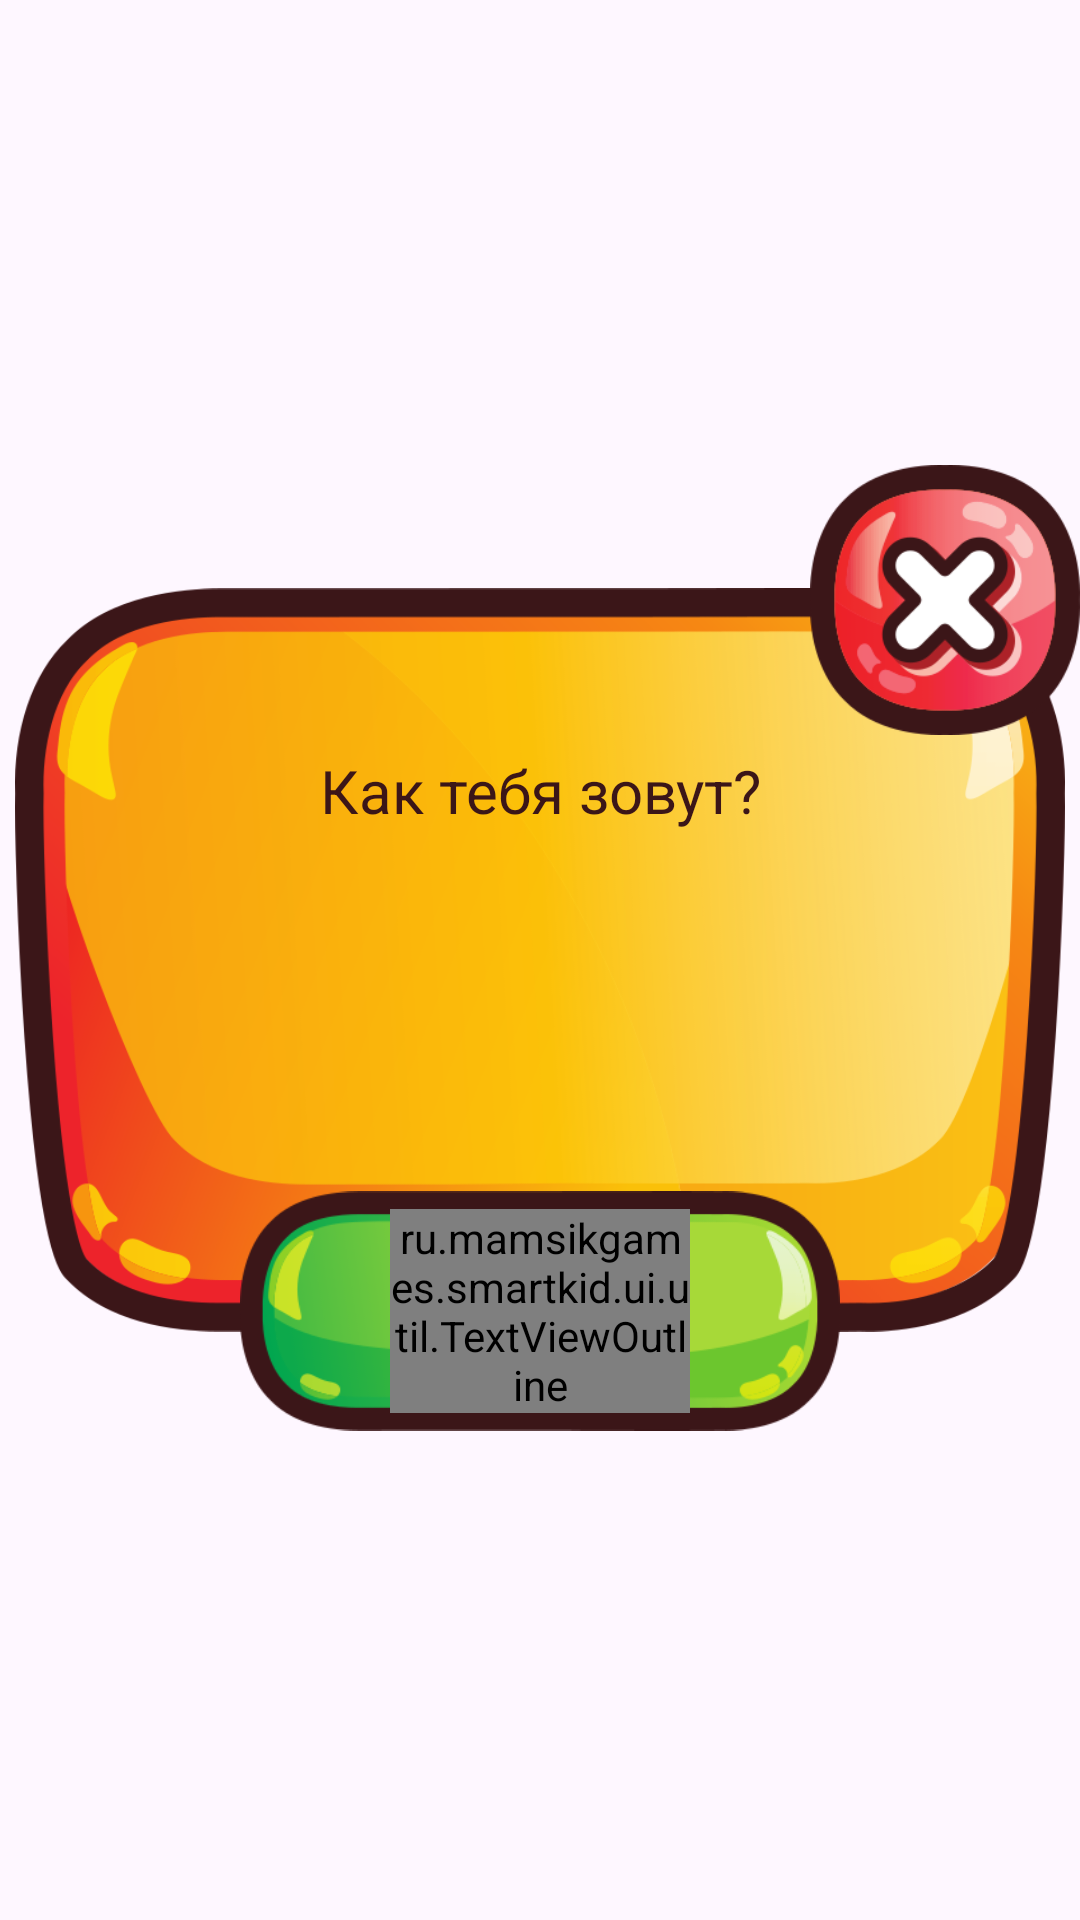

Icons on this 1080 x 1920 Android screen, each with the point to tap as (x=x, y=y):
Cancel: (x=945, y=600)
